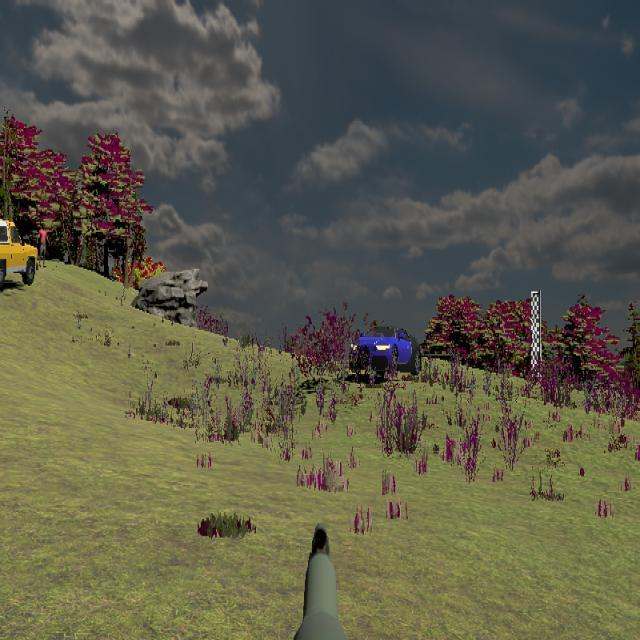Human: (36, 223, 50, 269)
car: (349, 325, 419, 378), (0, 219, 38, 291)
